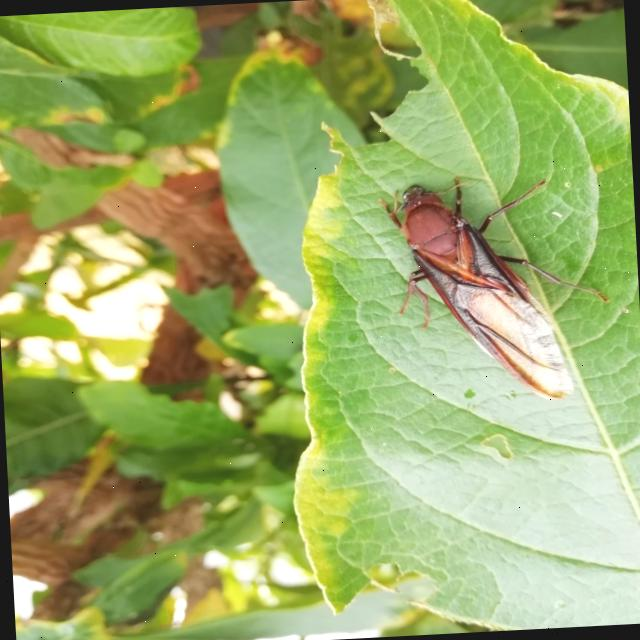Alive-Female-Alate: (377, 168, 614, 410)
